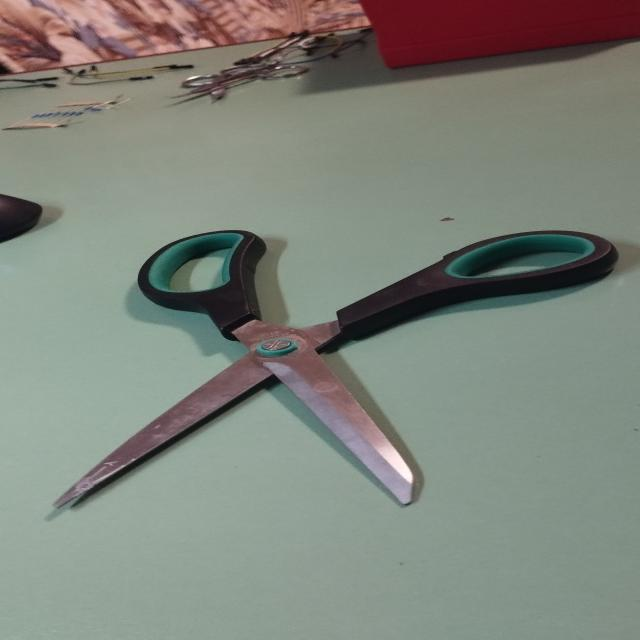tesoura: (43, 223, 630, 516)
